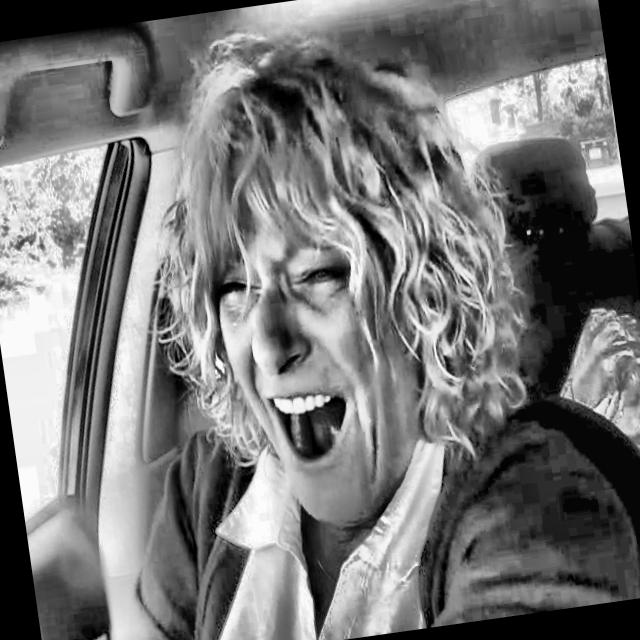closed_eyes: (208, 265, 270, 312)
open_mouth: (252, 377, 364, 477)
